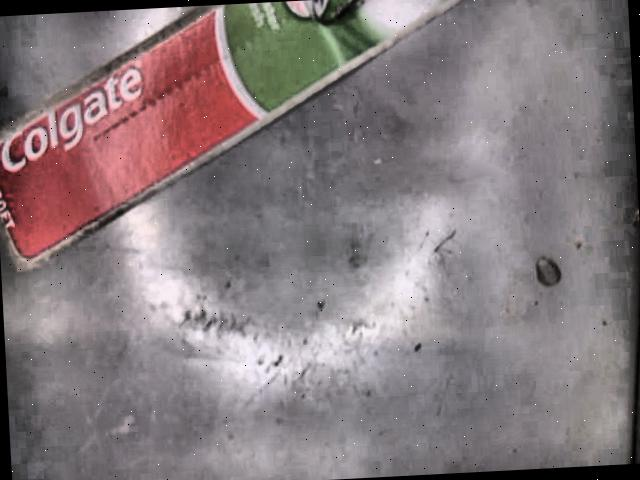Paper: (0, 0, 470, 269)
